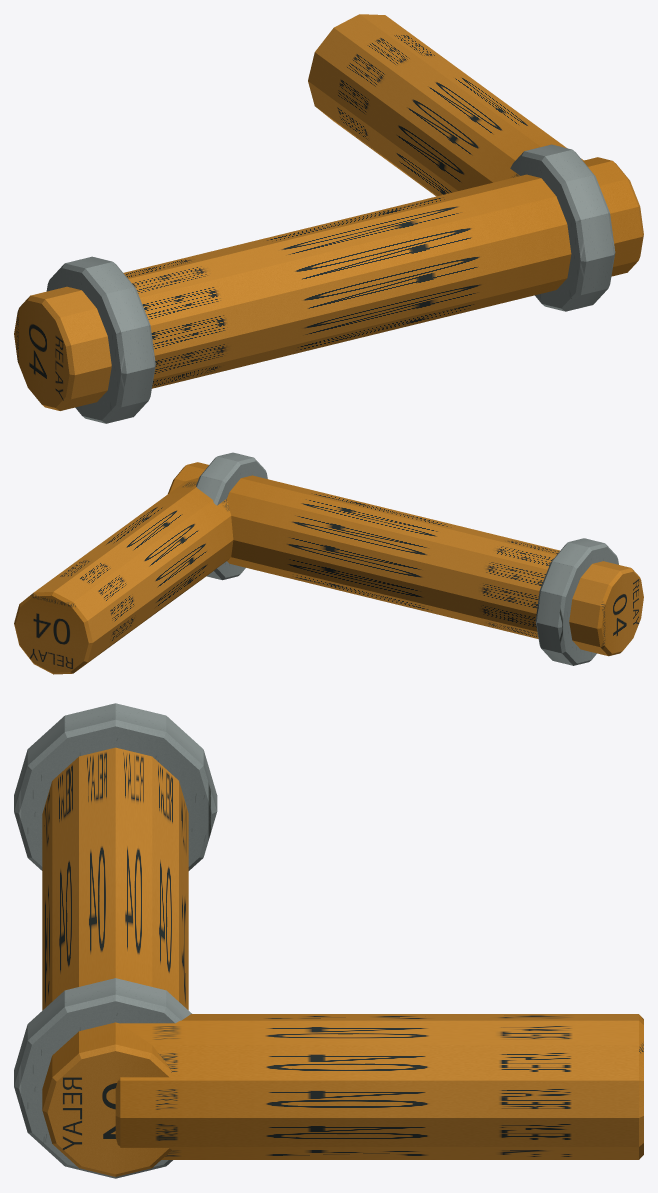
The model's file is pipe_elbow_LOD1.obj.
3 renders of one model, top to bottom at view 1: azimuth 30°, elevation 25°; view 2: azimuth 150°, elevation 25°; view 3: azimuth 270°, elevation 25°, orthographic. The views are drawn at different scales.
Visible parts, largest first — view 1: L02_pipe_elbow_LOD1; view 2: L02_pipe_elbow_LOD1; view 3: L02_pipe_elbow_LOD1.
Part boxes in pixels (box(x1,y1,x2,y2)): L02_pipe_elbow_LOD1: box(14, 14, 643, 423); L02_pipe_elbow_LOD1: box(14, 452, 643, 674); L02_pipe_elbow_LOD1: box(14, 703, 643, 1178).
Size of the model in its own units: 2.03 by 0.5 by 1.55.
1 material, 1 textured.
